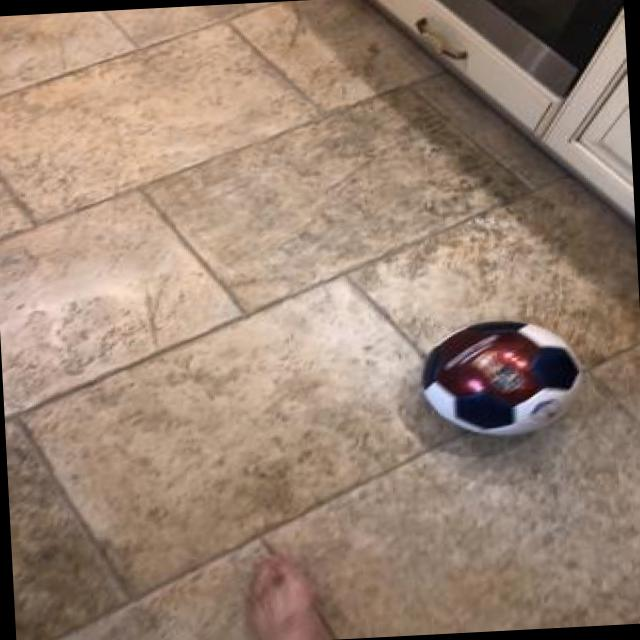Soccer Ball: (420, 310, 597, 440)
